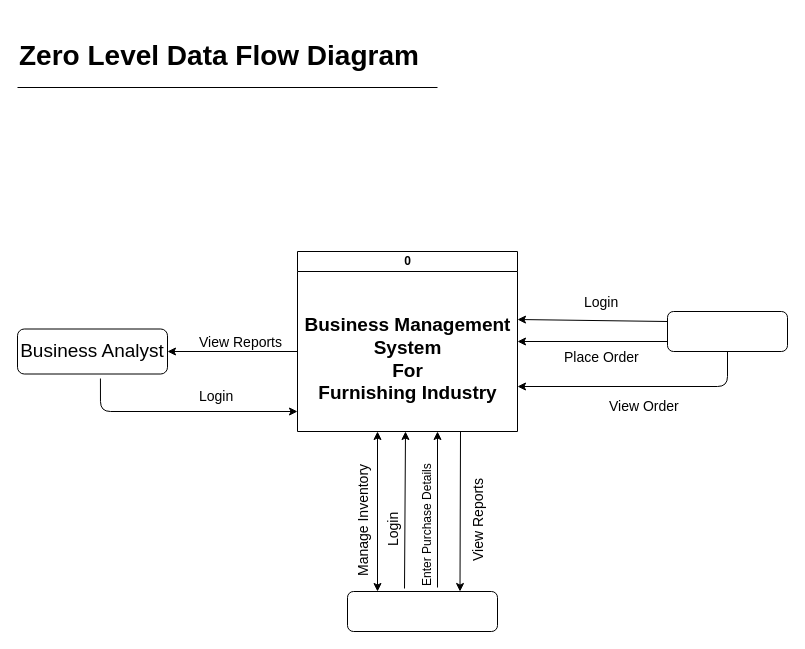
This 805x649 diagram has some shape labels left out. Each missing label, with the centre of its shape:
Admin: [422,611]
Wholesale Client: [727,331]
